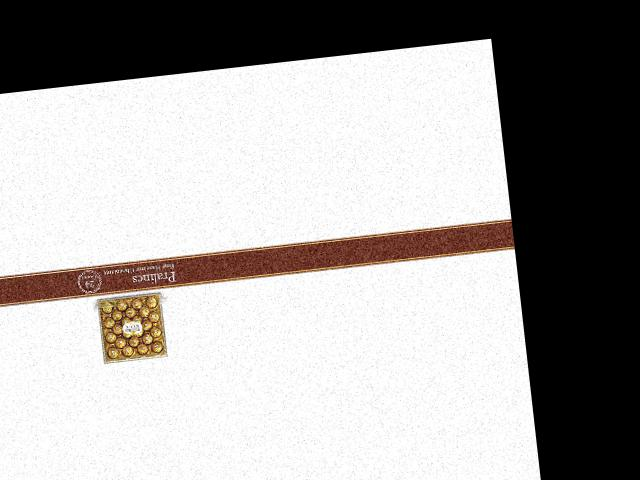chocolate: (92, 288, 170, 368)
